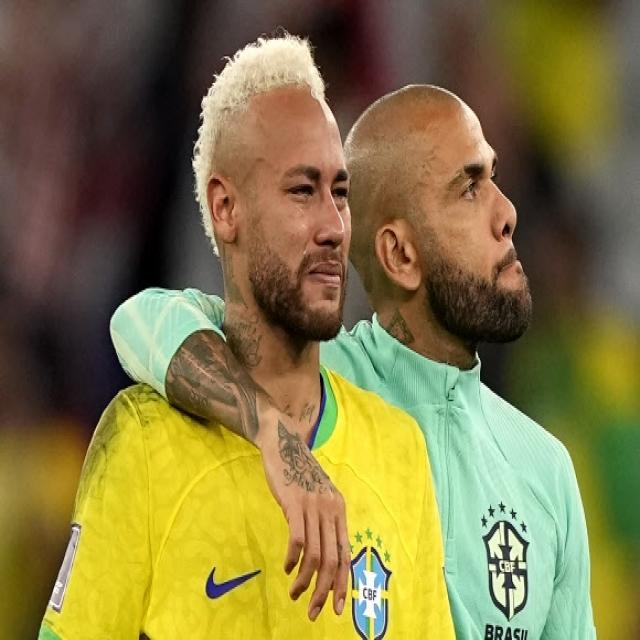neymar: (185, 51, 354, 337)
